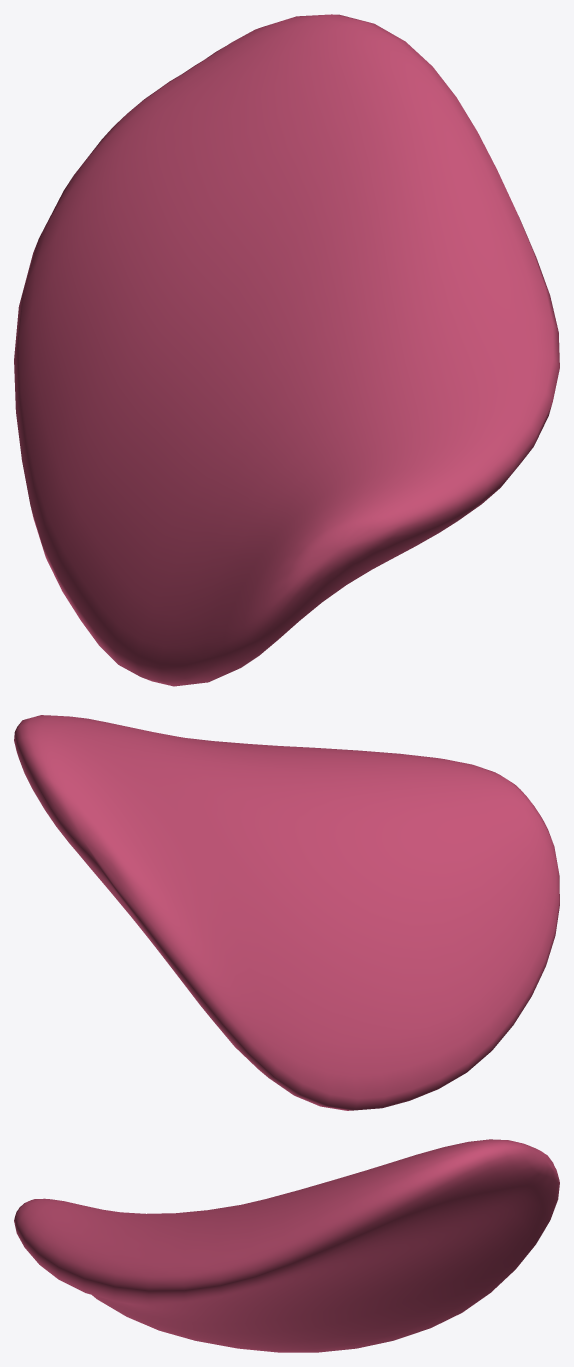
The picture shows the model from 3 angles, top to bottom: view 1: azimuth 30°, elevation 25°; view 2: azimuth 150°, elevation 25°; view 3: azimuth 270°, elevation 25°; orthographic projection. The views are drawn at different scales.
Visible parts, largest first — view 1: 左侧闭孔内肌坐骨囊; view 2: 左侧闭孔内肌坐骨囊; view 3: 左侧闭孔内肌坐骨囊.
Part boxes in pixels (box(x1,y1,x2,y2)): 左侧闭孔内肌坐骨囊: box(14, 14, 559, 686); 左侧闭孔内肌坐骨囊: box(14, 715, 559, 1110); 左侧闭孔内肌坐骨囊: box(14, 1139, 559, 1352).
Bounding box in the file's own units: 0.0201 × 0.0194 × 0.029.
